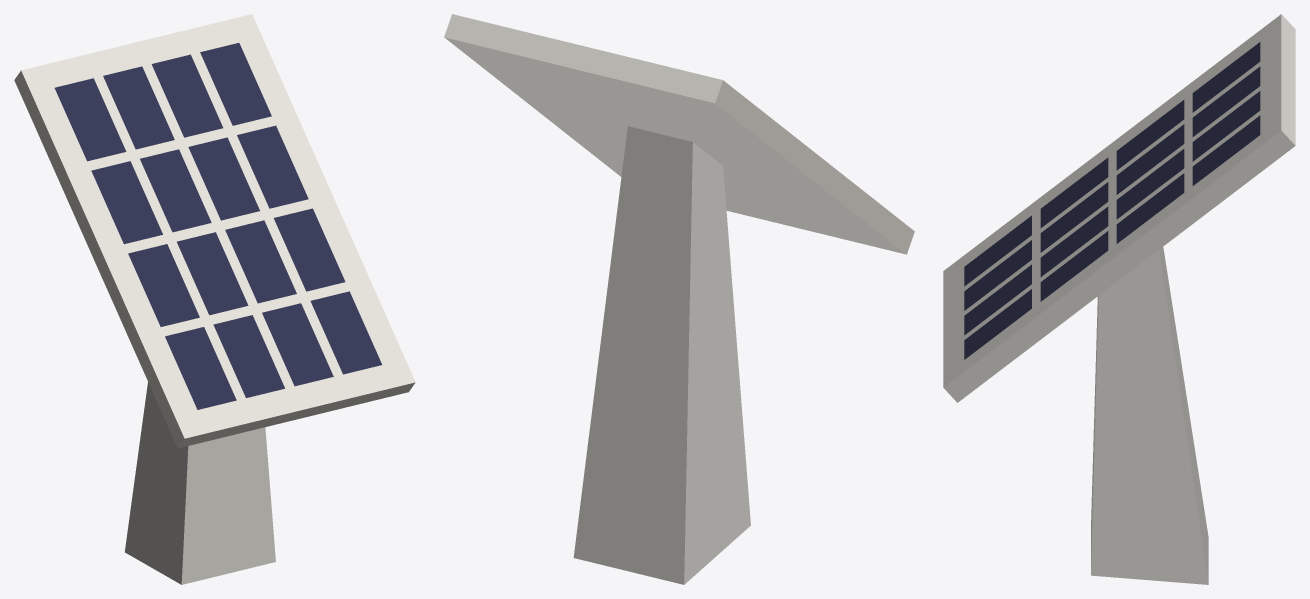
Rendered from 05 Solar_panel.FBX.
3 views of the same model, side by side, from view 1: azimuth 30°, elevation 25°; view 2: azimuth 150°, elevation 25°; view 3: azimuth 270°, elevation 25° (orthographic). The views are drawn at different scales.
Visible parts, largest first — view 1: Box044; view 2: Box044; view 3: Box044.
Boxes of the visible parts, left/top/right/bottom form: Box044: left=14, top=14, right=415, bottom=584; Box044: left=444, top=14, right=914, bottom=584; Box044: left=943, top=14, right=1295, bottom=584.
Size of the model in its own units: 475 by 929 by 607.
